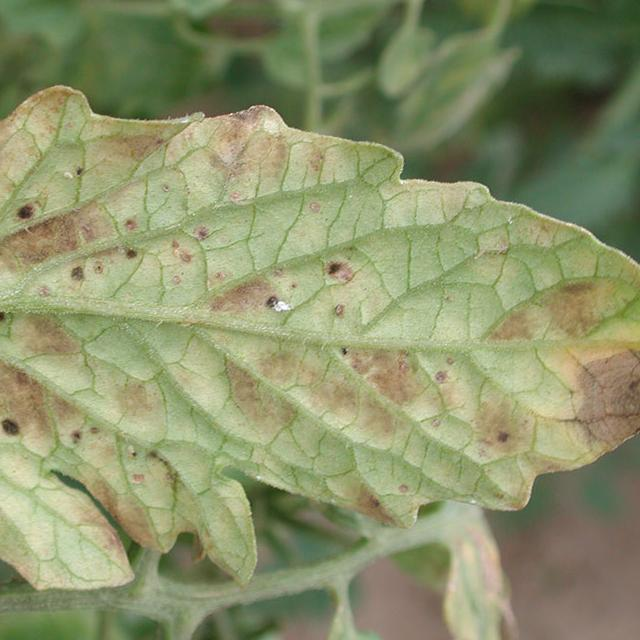Tomato mold leaf: (0, 60, 640, 629)
